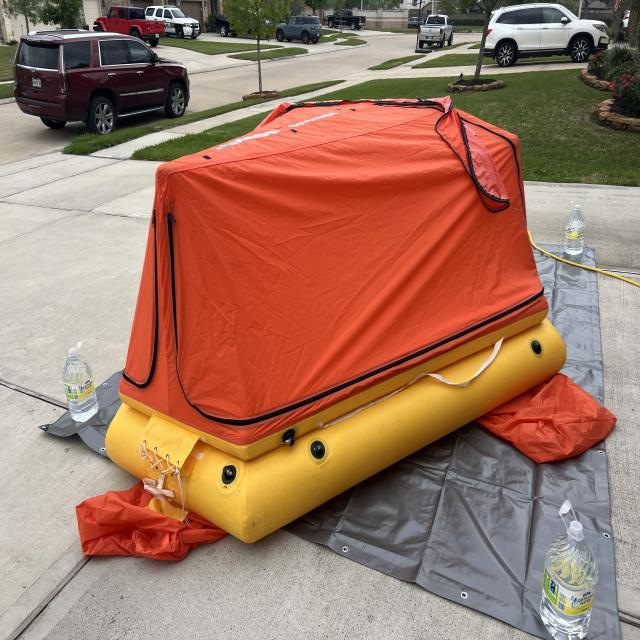Multi-person_life_raft: (74, 95, 617, 562)
